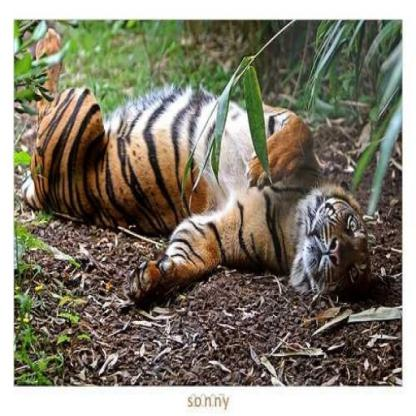Tiger: (28, 54, 377, 341)
